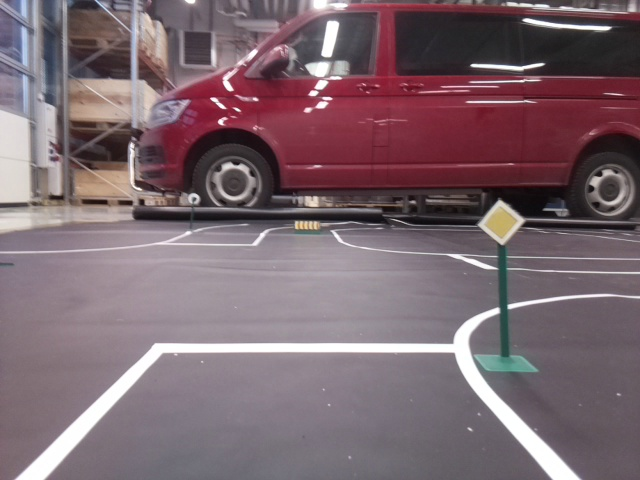Priority: (477, 197, 525, 241)
